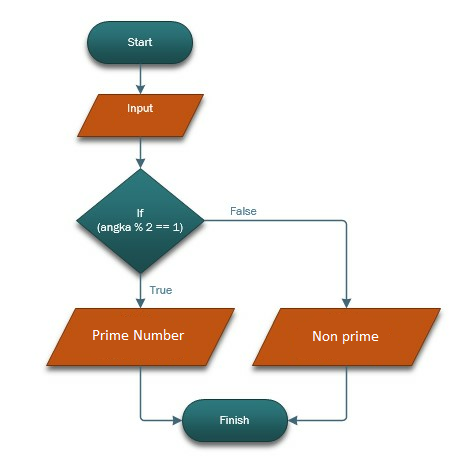arrow: (200, 216, 352, 307), (287, 364, 351, 426), (137, 364, 181, 425), (133, 271, 146, 306), (135, 137, 146, 169), (134, 66, 145, 92)
data: (45, 305, 236, 370), (251, 305, 443, 369), (75, 92, 205, 142)
decision: (74, 167, 207, 275)
terminator: (84, 18, 196, 70), (179, 396, 290, 445)
text: (95, 204, 185, 234), (88, 327, 185, 344), (309, 328, 380, 346), (217, 411, 250, 428), (124, 33, 155, 49), (124, 102, 153, 116), (226, 204, 257, 216), (147, 283, 173, 297)
